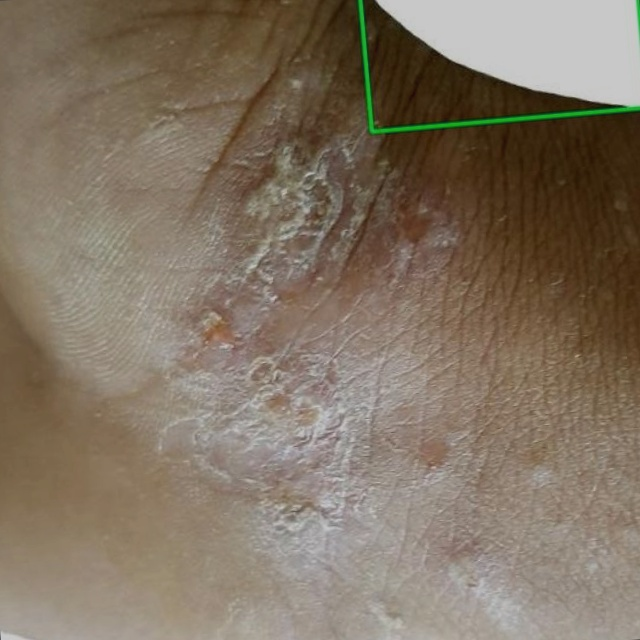Scabies: (360, 0, 639, 131)
